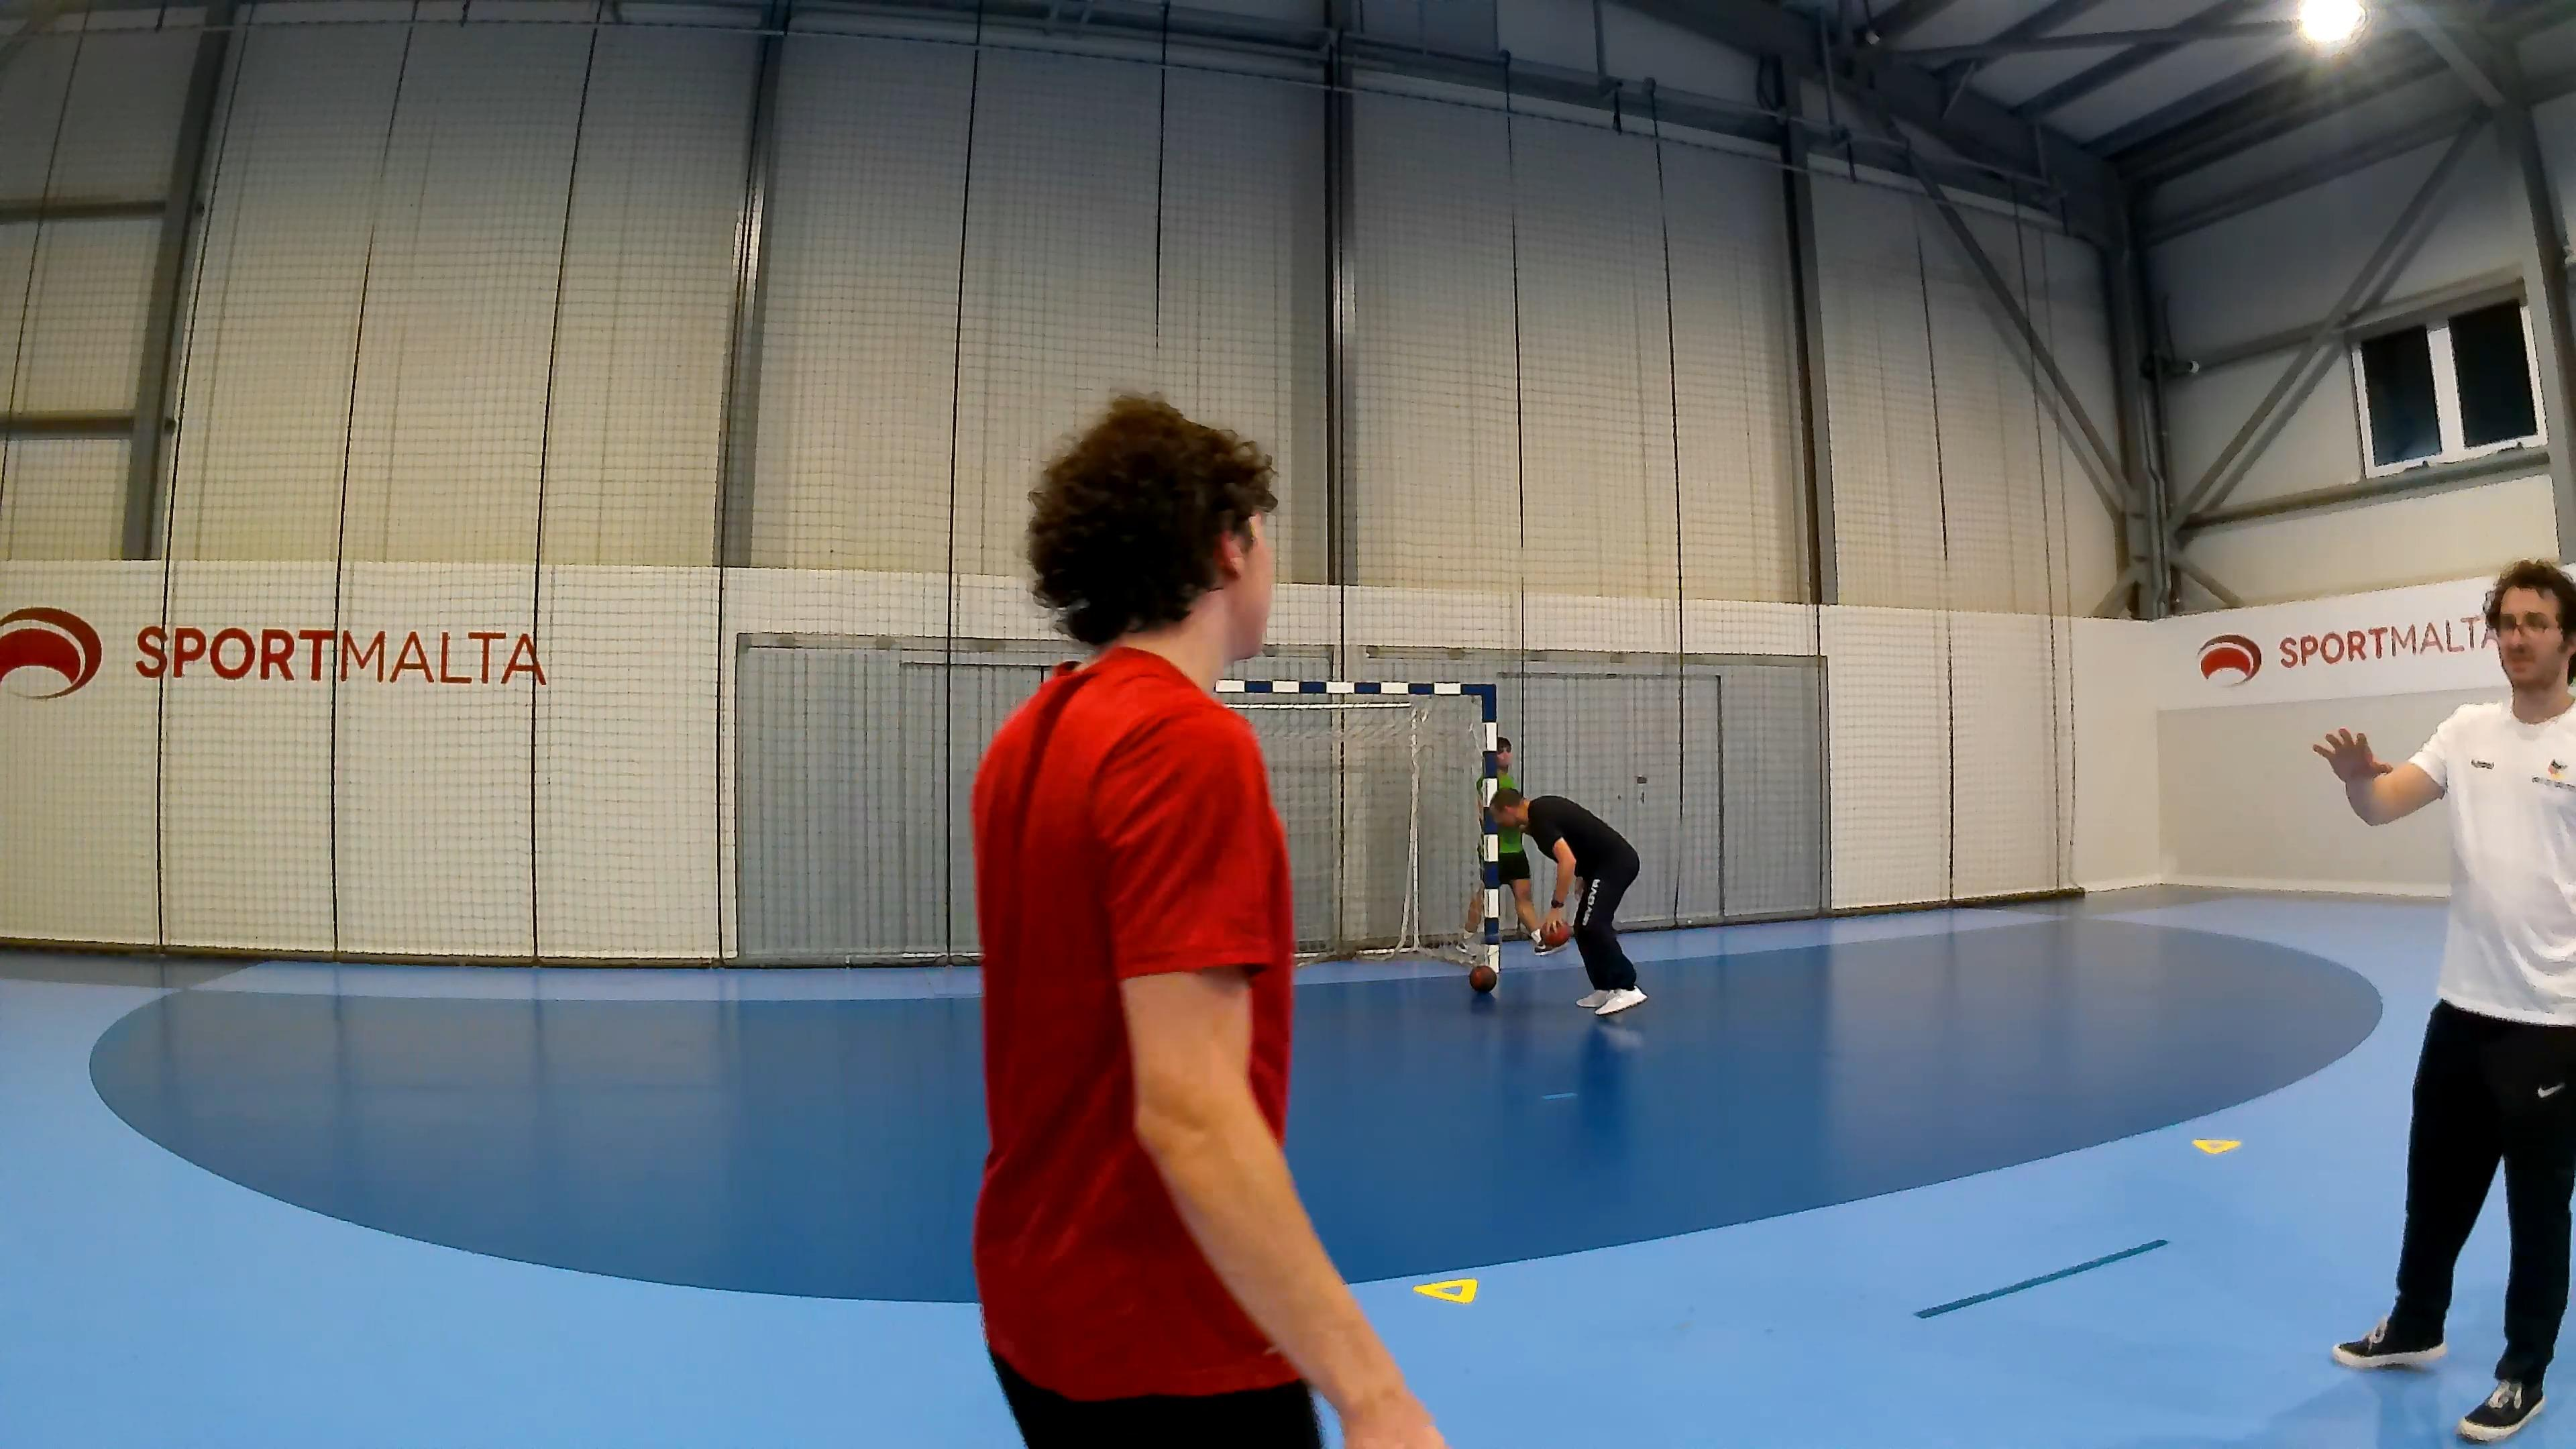handball: (1534, 916, 1573, 952), (1468, 962, 1497, 991)
